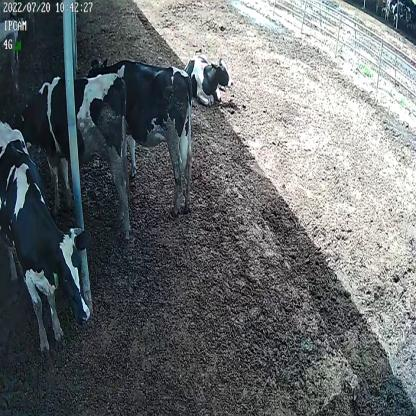cow: (0, 115, 94, 360), (17, 70, 134, 246), (86, 59, 194, 218), (184, 42, 235, 110)
